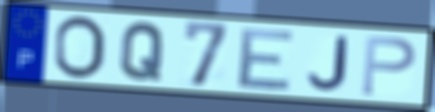7: (182, 19, 230, 90)
E: (234, 27, 297, 92)
J: (305, 35, 349, 93)
O: (51, 14, 108, 81)
P: (359, 33, 418, 98)
Q: (117, 20, 168, 83)
